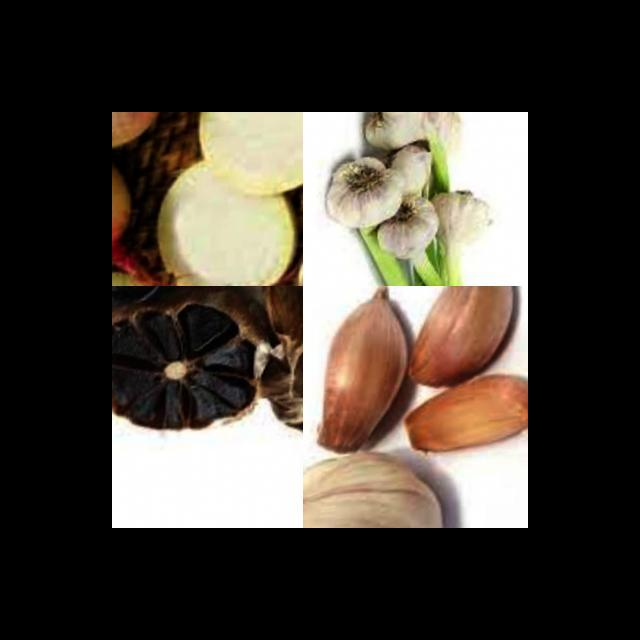garlic: (112, 286, 298, 452), (304, 286, 429, 465), (326, 112, 472, 228), (401, 286, 528, 398), (303, 441, 453, 528), (403, 364, 528, 467), (366, 186, 443, 280), (424, 183, 506, 264), (112, 286, 222, 310)
